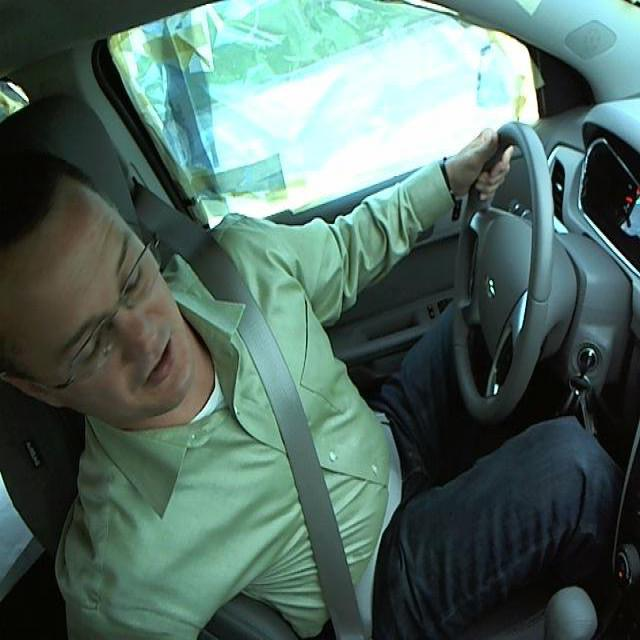seatbelt: (199, 280, 358, 608)
